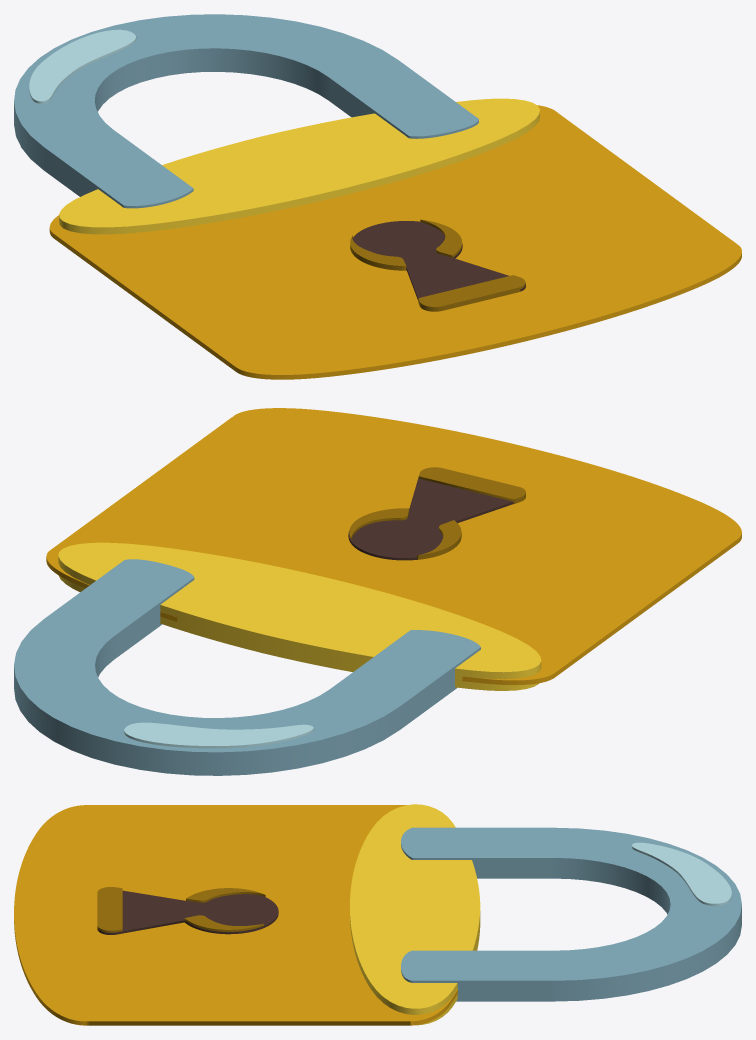
Rendered from emoji_u1f512.glb.
3 renders of one model, top to bottom at view 1: azimuth 30°, elevation 25°; view 2: azimuth 150°, elevation 25°; view 3: azimuth 270°, elevation 25°, orthographic. The views are drawn at different scales.
Parts seen in each view (by area): view 1: emoji_u1f512; view 2: emoji_u1f512; view 3: emoji_u1f512.
Part boxes in pixels (x1,y1,x2,y2): emoji_u1f512: [14, 14, 741, 379]; emoji_u1f512: [14, 408, 741, 775]; emoji_u1f512: [14, 804, 741, 1025].
Bounding box in the file's own units: 0.0224 × 0.0012 × 0.0318.
